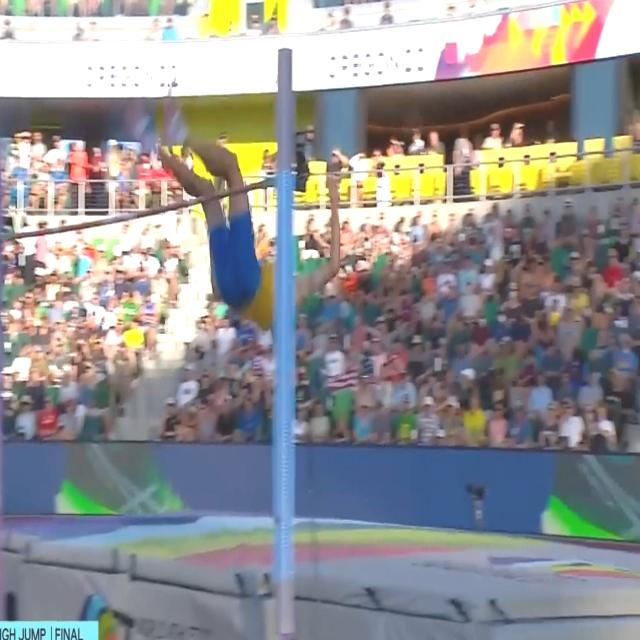land: (127, 94, 343, 333)
